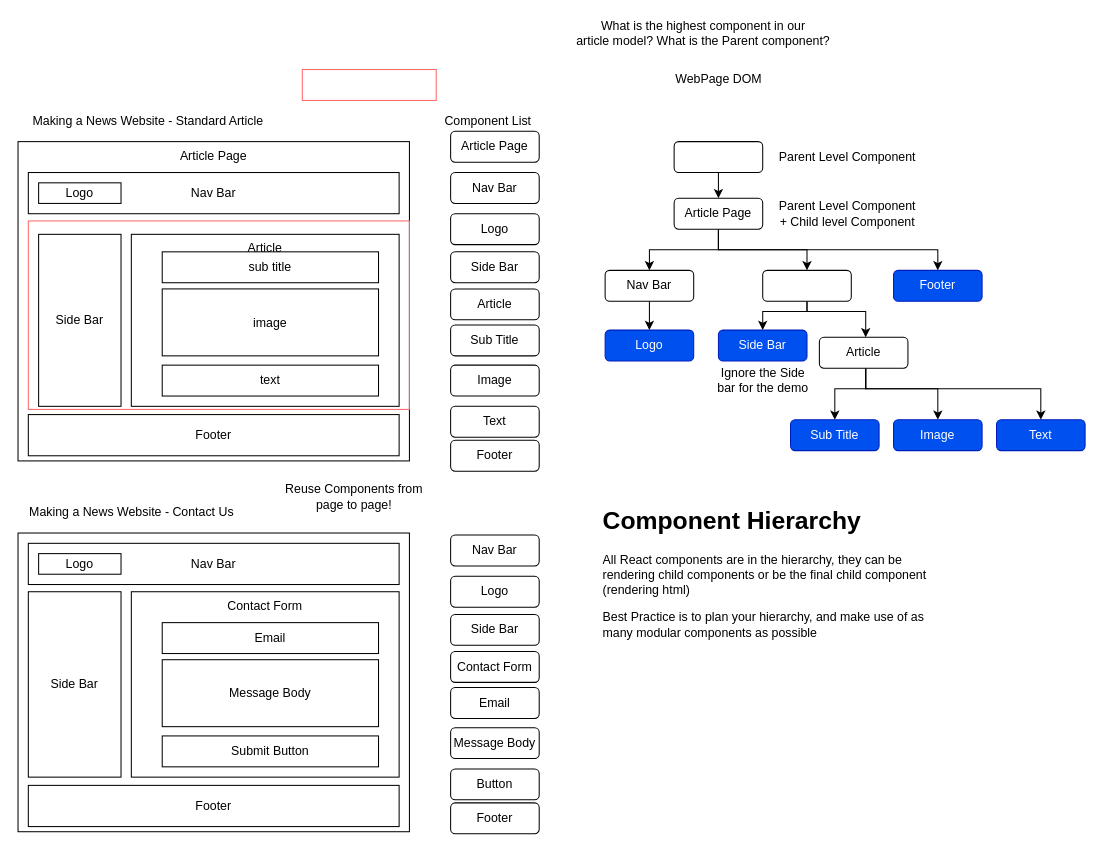
This 1103x852 diagram has some shape labels left out. Each missing label, with the centre of its shape:
"app.js" belongs at point 718,157.
"Article Body Using Bootstrap Grid" belongs at point 368,84.
"ArticleBody" belongs at point 806,285.
